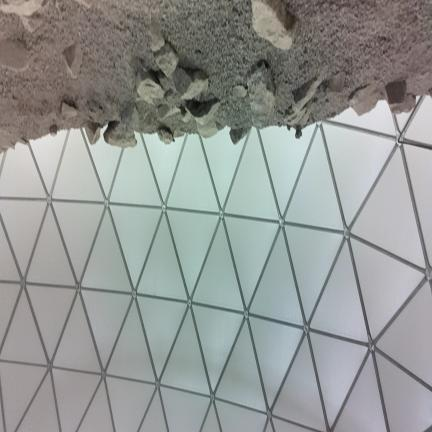Rock: (252, 0, 295, 50), (248, 61, 275, 127), (172, 67, 208, 99), (349, 84, 382, 115), (385, 81, 415, 113), (293, 78, 321, 111), (0, 40, 29, 71), (137, 70, 164, 103), (185, 99, 219, 125), (104, 122, 137, 147), (0, 0, 46, 17), (155, 43, 178, 76), (63, 43, 83, 78), (121, 102, 139, 131), (385, 81, 406, 105), (285, 106, 310, 126), (149, 23, 165, 52), (20, 13, 42, 32), (197, 119, 218, 138), (85, 121, 101, 144), (328, 72, 345, 92), (61, 102, 78, 119), (230, 128, 248, 144), (158, 127, 174, 144), (233, 85, 247, 97), (158, 104, 169, 118), (181, 107, 191, 122), (75, 0, 92, 8), (166, 107, 180, 116), (295, 126, 302, 139), (174, 130, 184, 138), (50, 125, 57, 136), (428, 88, 431, 97)
